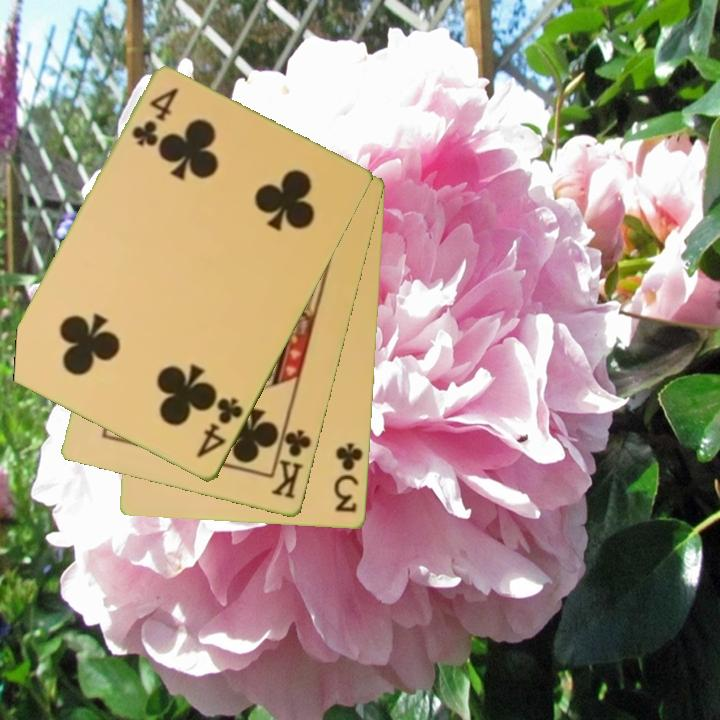3c: (330, 439, 366, 516)
4c: (192, 394, 247, 462), (128, 84, 182, 150)
Kc: (268, 419, 315, 502)
